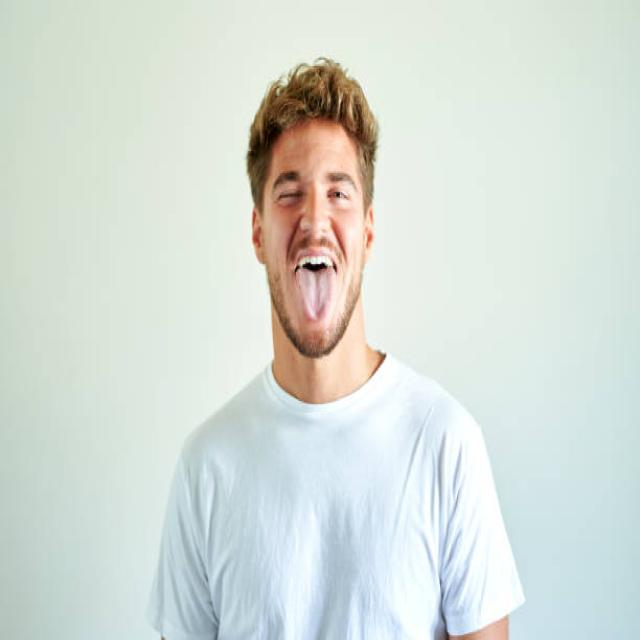tongue: (296, 268, 336, 321)
